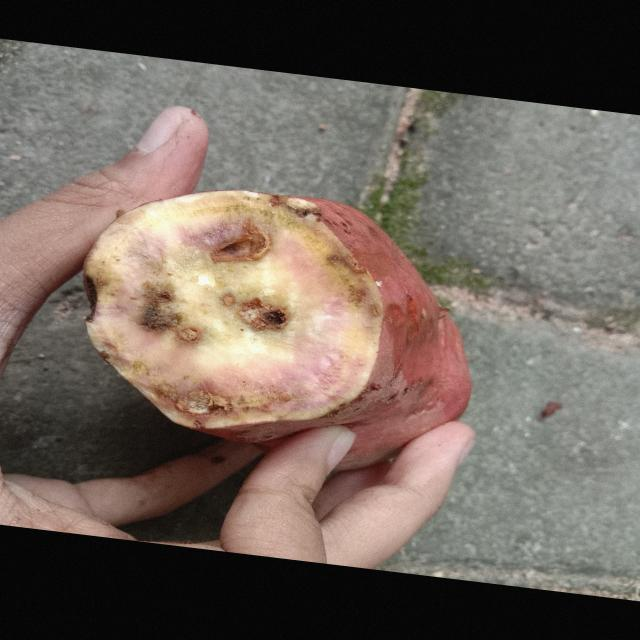Sick Sweet Potato_Tuber Rot: (85, 191, 383, 442)
